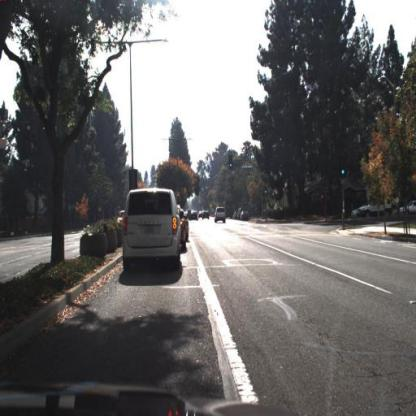car: (121, 189, 183, 275), (360, 196, 402, 221), (355, 196, 395, 220), (177, 205, 191, 254), (214, 202, 229, 226), (198, 208, 214, 225), (116, 209, 127, 230), (202, 210, 213, 224), (241, 209, 251, 224)
trafficLight-Green: (339, 158, 346, 177), (341, 159, 347, 180), (229, 151, 235, 169), (263, 182, 270, 197), (229, 155, 234, 171), (264, 189, 269, 203)
trafficLight-Red: (177, 191, 183, 207)
